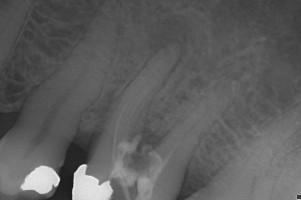Furcation Involvement: (146, 14, 189, 58)
